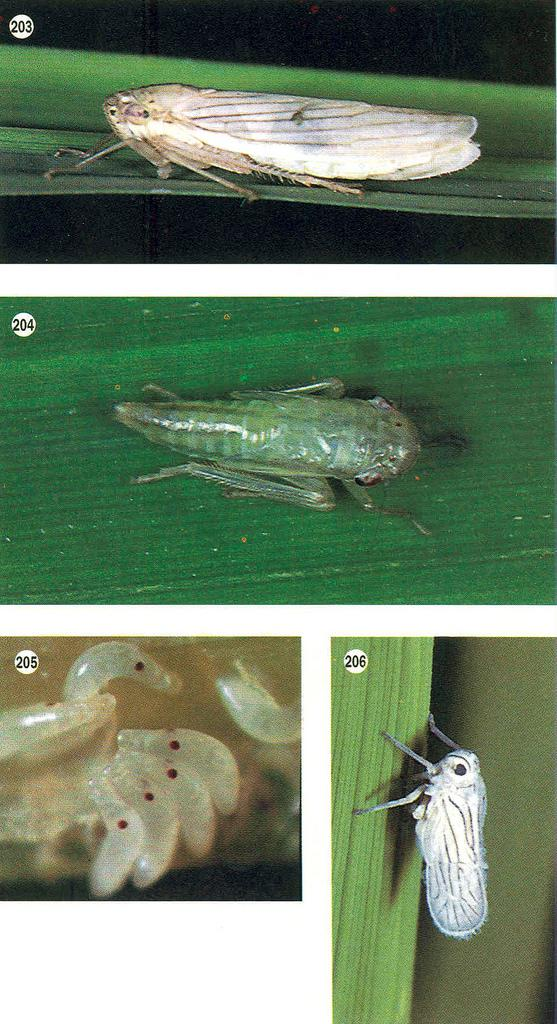pest: (94, 82, 486, 197), (89, 394, 424, 486), (413, 746, 494, 942), (132, 728, 244, 813), (125, 747, 208, 855), (110, 769, 175, 897), (57, 638, 186, 697), (86, 778, 147, 899), (218, 663, 299, 739), (1, 699, 94, 755)
